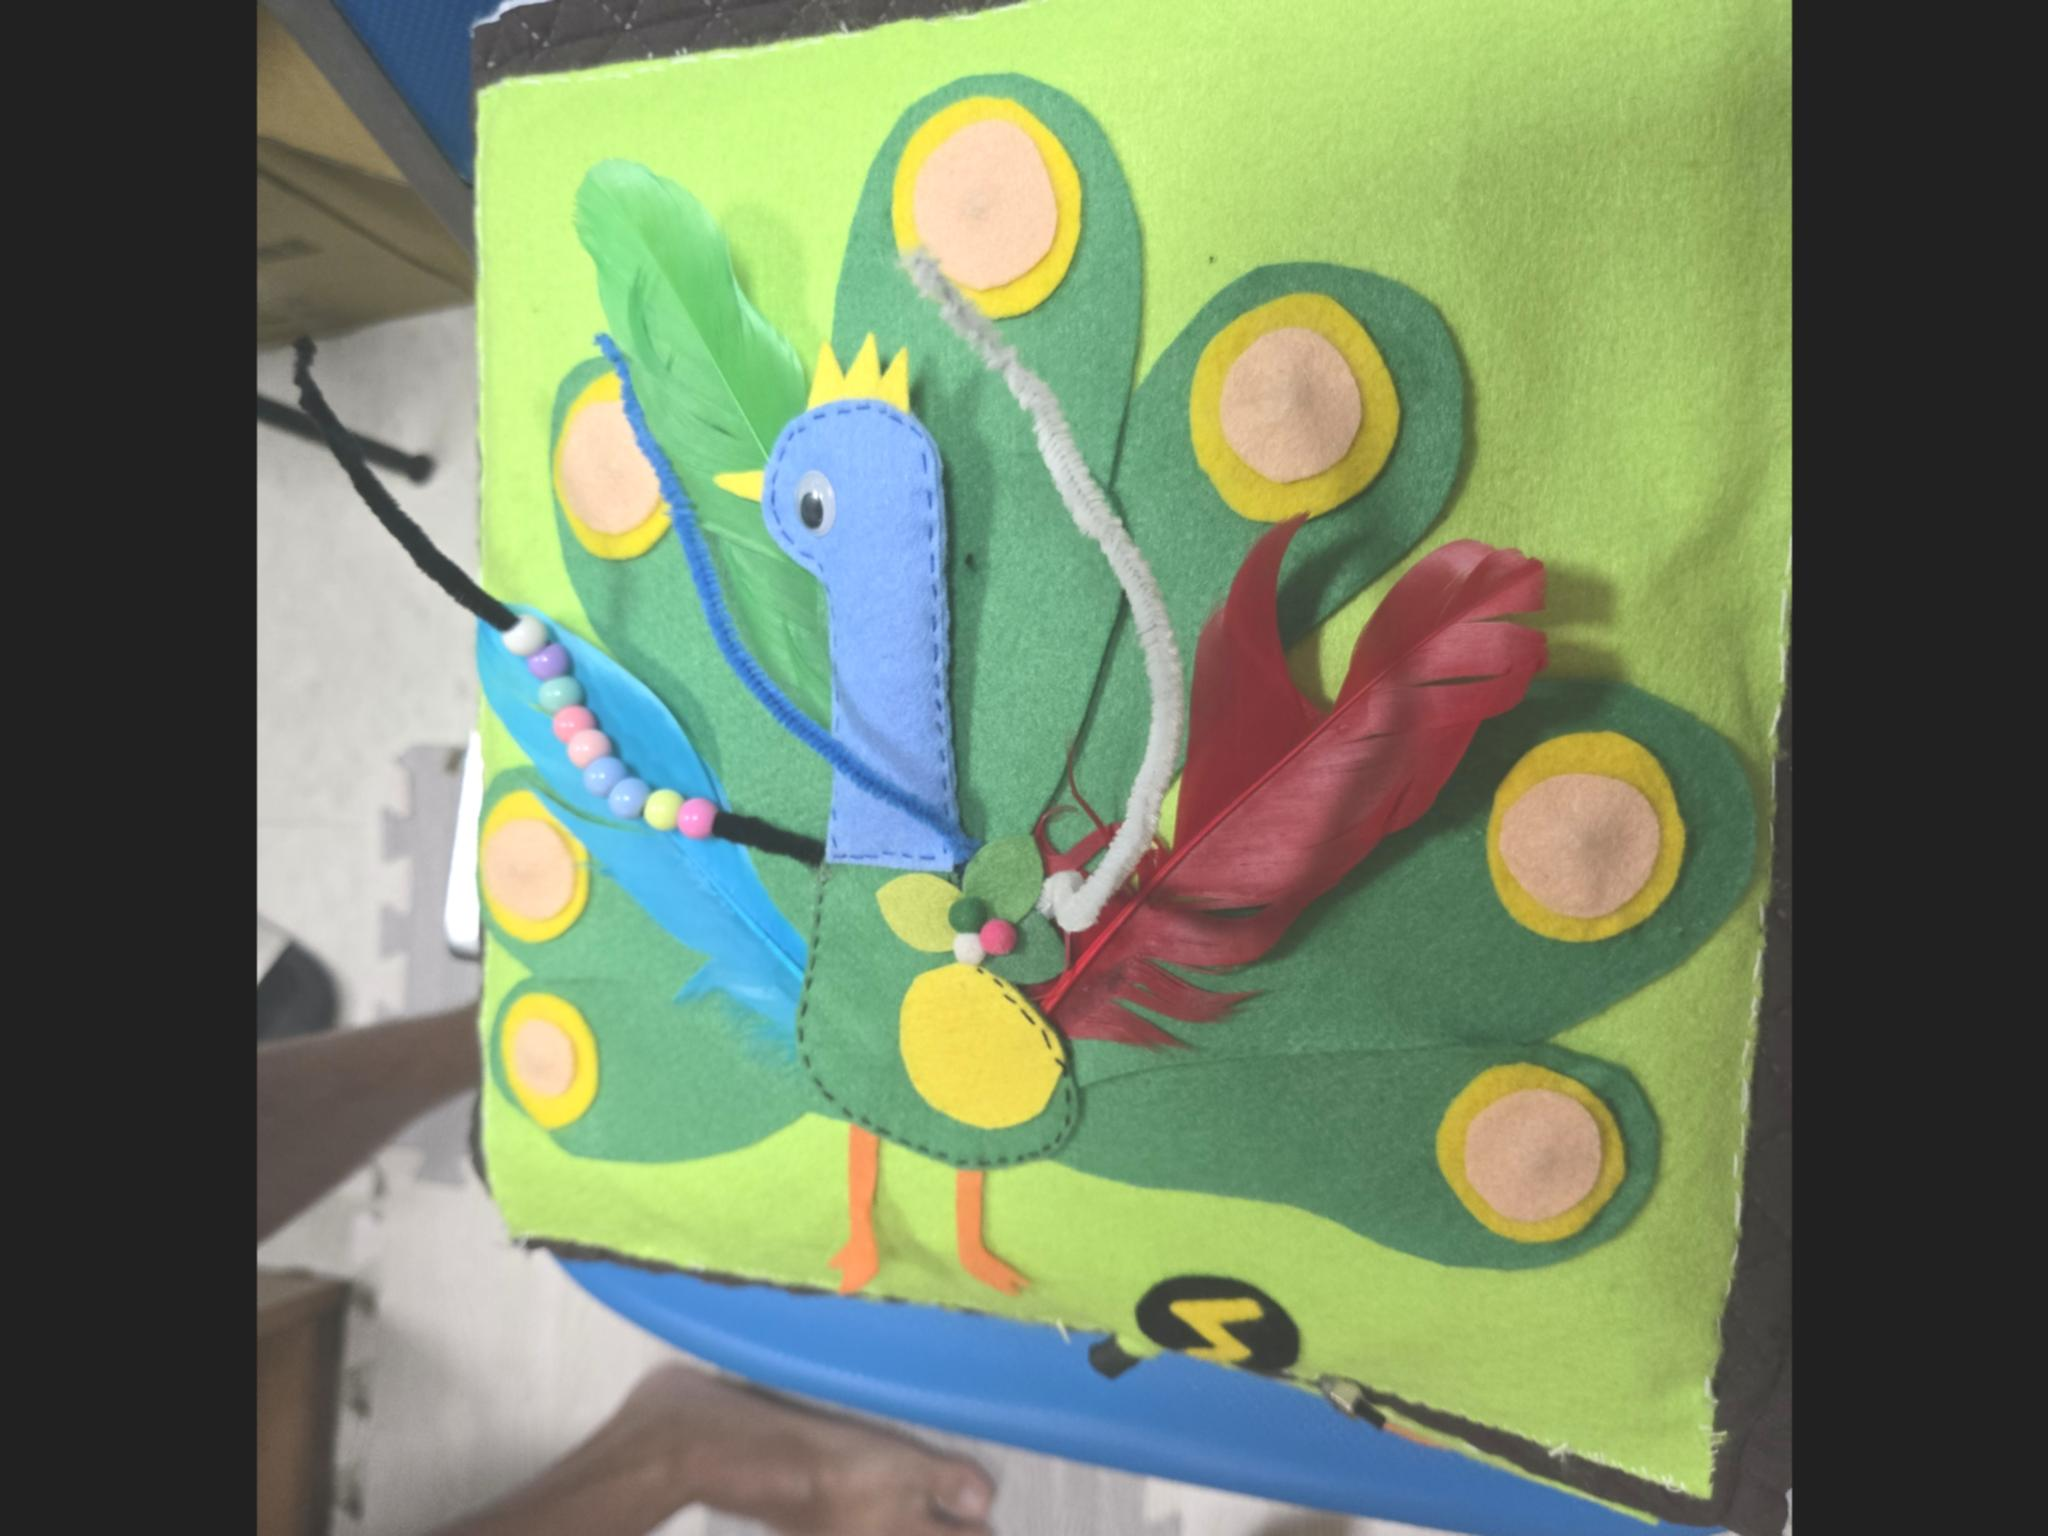bead: (666, 792, 719, 850), (631, 784, 676, 844), (605, 771, 645, 834), (560, 729, 618, 763), (518, 650, 569, 686), (527, 678, 584, 707), (543, 707, 589, 742), (574, 766, 616, 803), (497, 620, 540, 655)
